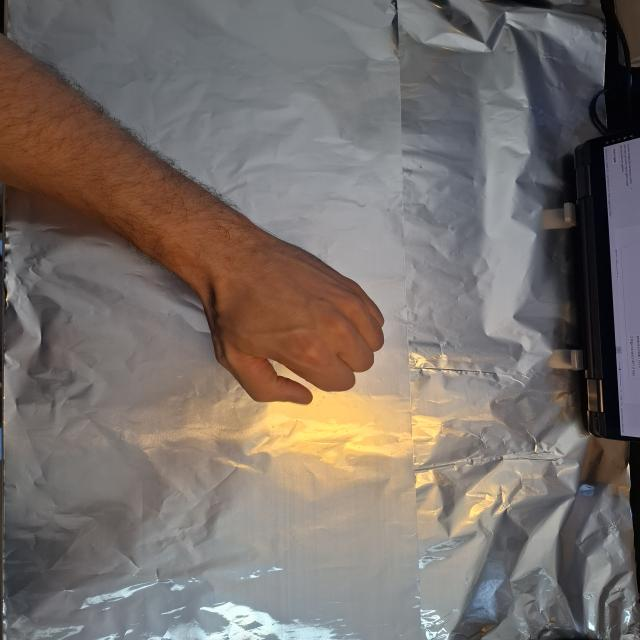glove_off: (190, 220, 390, 408)
